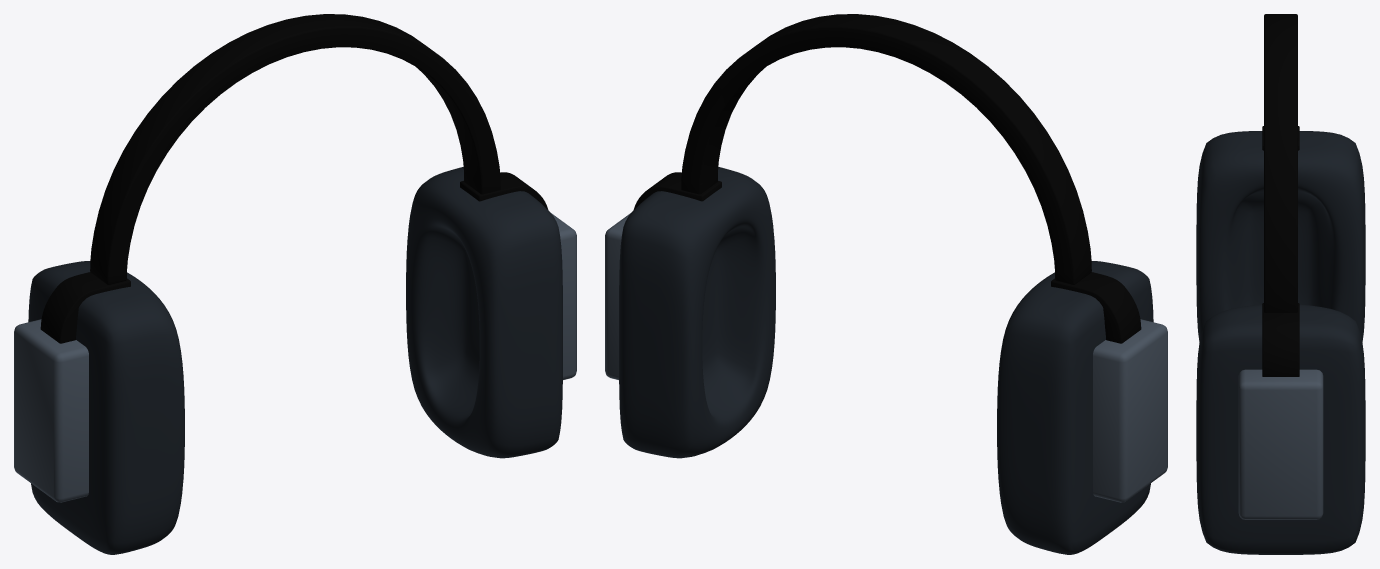
Rendered from headphones.glb.
The picture shows the model from 3 angles, left to right: view 1: azimuth 30°, elevation 25°; view 2: azimuth 150°, elevation 25°; view 3: azimuth 270°, elevation 25°; orthographic projection. The views are drawn at different scales.
Visible parts, largest first — view 1: Circle.001; view 2: Circle.001; view 3: Circle.001.
Part boxes in pixels (box(x1,y1,x2,y2)): Circle.001: box(14, 14, 576, 554); Circle.001: box(605, 14, 1167, 554); Circle.001: box(1196, 14, 1365, 554).
Size of the model in its own units: 6.6 by 5.53 by 2.
